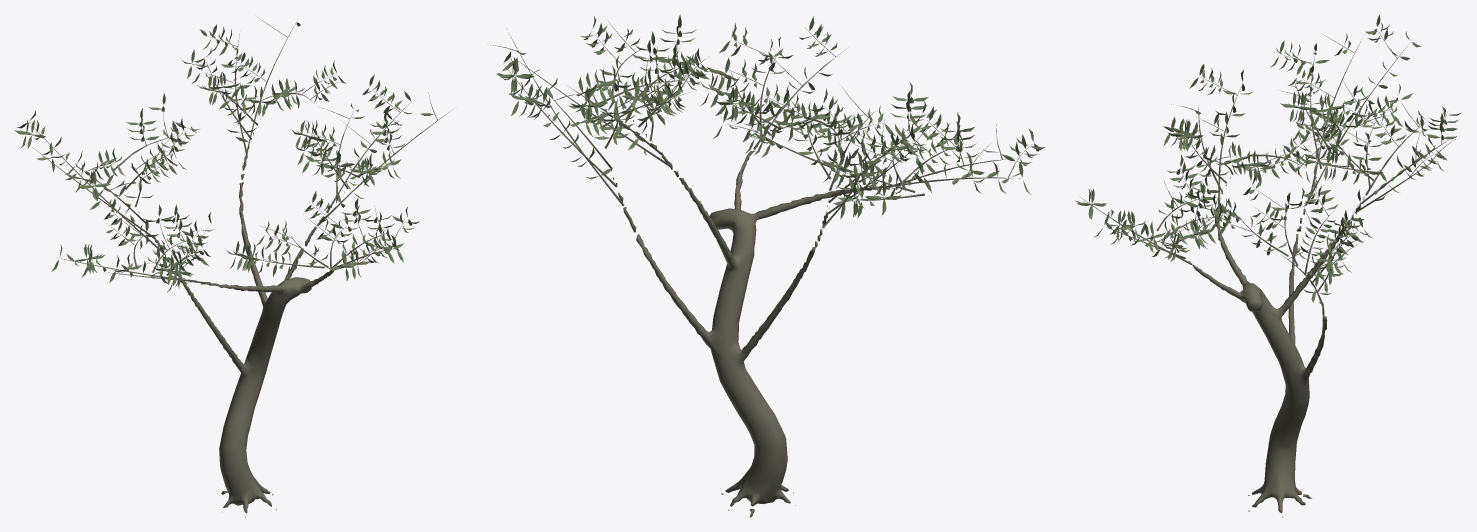
The model's file is Oleastre_0_Niveau1.fbx.
3 views of the same model, side by side, from view 1: azimuth 30°, elevation 25°; view 2: azimuth 150°, elevation 25°; view 3: azimuth 270°, elevation 25° (orthographic). The views are drawn at different scales.
Visible parts, largest first — view 1: Oleastre_0_Niveau1_Jeu; view 2: Oleastre_0_Niveau1_Jeu; view 3: Oleastre_0_Niveau1_Jeu.
Part boxes in pixels (box(x1,y1,x2,y2)): Oleastre_0_Niveau1_Jeu: box(14, 17, 450, 517); Oleastre_0_Niveau1_Jeu: box(490, 14, 1044, 517); Oleastre_0_Niveau1_Jeu: box(1075, 14, 1461, 517).
Bounding box in the file's own units: 245 × 226 × 188.
